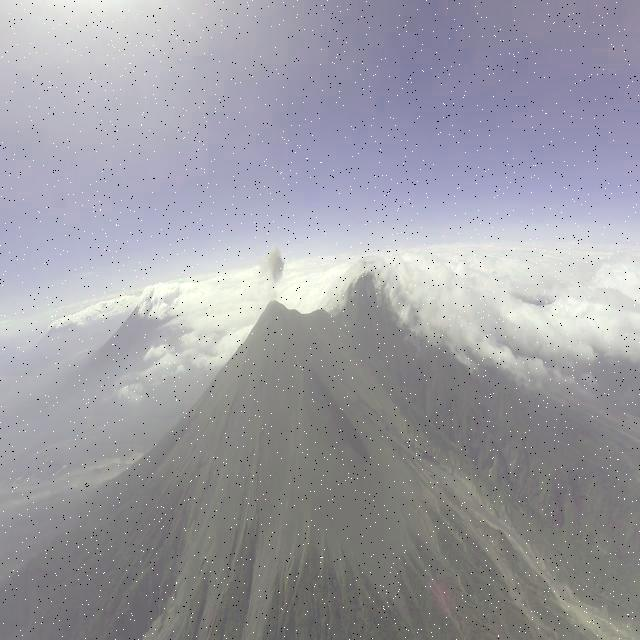Plume: (261, 243, 285, 291)
Summit: (252, 298, 300, 326)
